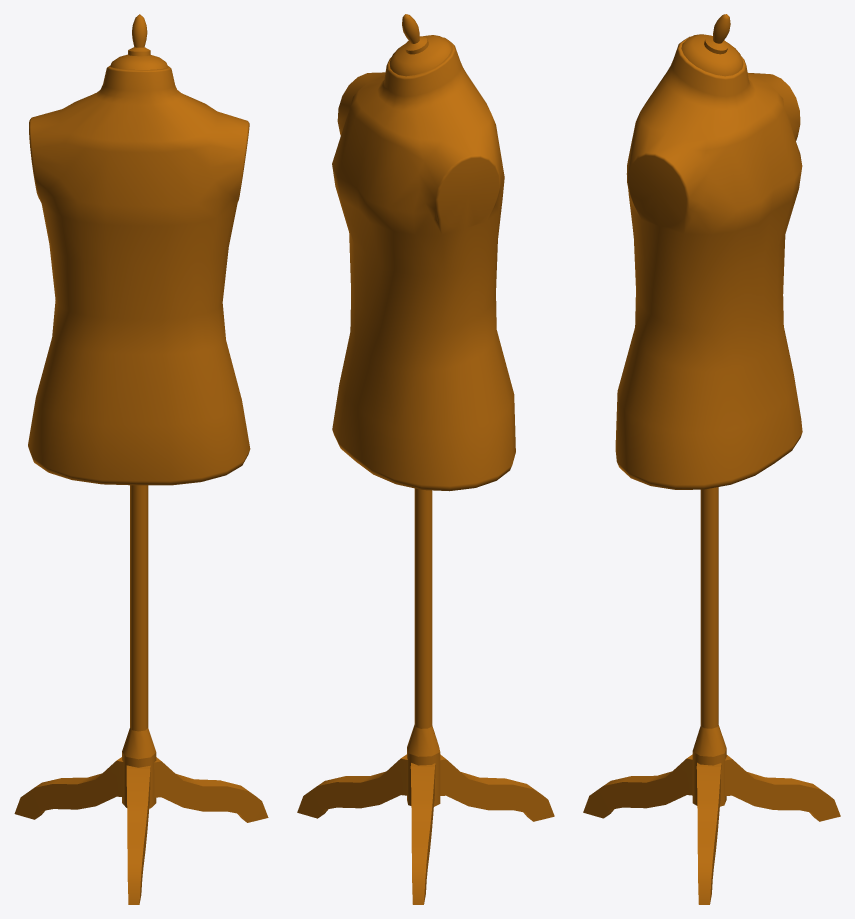
File: Ma-no-canh (0.09, -1.4, 0.3).glb
The picture shows the model from 3 angles, left to right: view 1: azimuth 30°, elevation 25°; view 2: azimuth 150°, elevation 25°; view 3: azimuth 270°, elevation 25°; orthographic projection.
Parts seen in each view (by area): view 1: Dress.005; view 2: Dress.005; view 3: Dress.005.
Boxes of the visible parts, <box> form: Dress.005: <box>14,14,268,904</box>; Dress.005: <box>297,14,554,904</box>; Dress.005: <box>583,14,840,904</box>.
Size of the model in its own units: 0.5067 by 1.85 by 0.5183.
